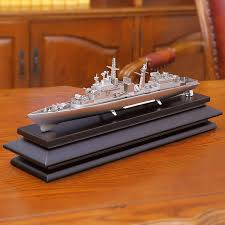tau_muctieu: (38, 60, 204, 119)
